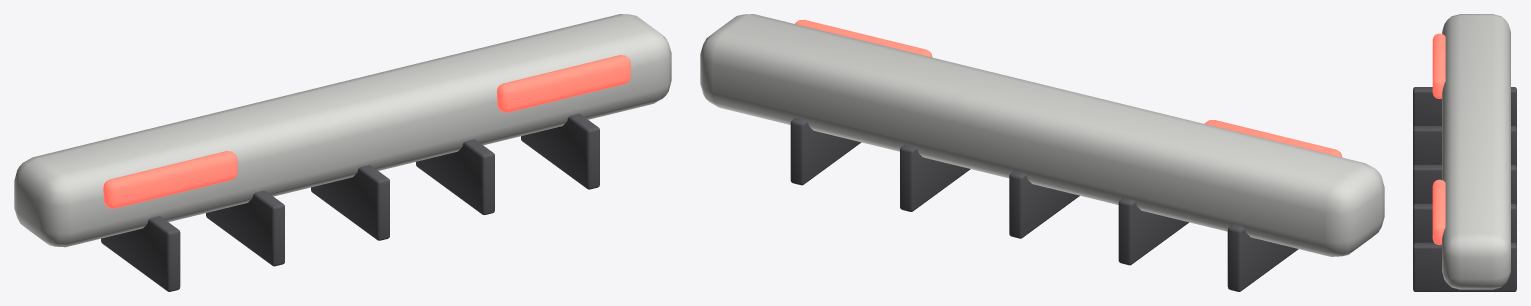
Rendered from Zderzak_Sportowy_Tyl.fbx.
The picture shows the model from 3 angles, left to right: view 1: azimuth 30°, elevation 25°; view 2: azimuth 150°, elevation 25°; view 3: azimuth 270°, elevation 25°; orthographic projection. The views are drawn at different scales.
Visible parts, largest first — view 1: Zderzak_Sportowy_Tyl; view 2: Zderzak_Sportowy_Tyl; view 3: Zderzak_Sportowy_Tyl.
Boxes of the visible parts, <box> form: Zderzak_Sportowy_Tyl: <box>14,14,671,291</box>; Zderzak_Sportowy_Tyl: <box>700,14,1384,291</box>; Zderzak_Sportowy_Tyl: <box>1413,14,1516,291</box>.
Size of the model in its own units: 2.4 by 0.42 by 0.45.
